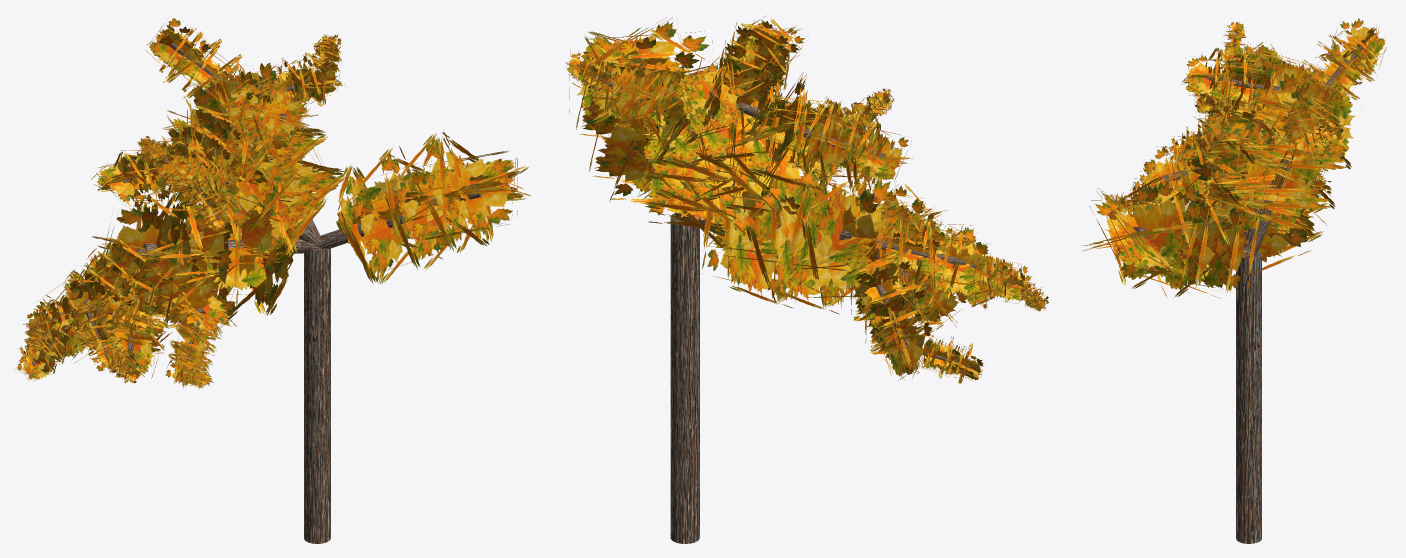
3 views of the same model, side by side, from view 1: azimuth 30°, elevation 25°; view 2: azimuth 150°, elevation 25°; view 3: azimuth 270°, elevation 25° (orthographic). The views are drawn at different scales.
Parts seen in each view (by area): view 1: leaf (1), leaf (3), leaf (5), leaf (4), leaf (10), treeStart leaves, leaf (13), leaf, leaf (2), leaf (6), leaf (11), leaf (14) (+6 smaller); view 2: leaf (5), leaf (3), leaf (1), leaf (6), treeStart leaves, leaf (4), leaf (2), leaf, leaf (14), leaf (13), leaf (9), leaf (10) (+5 smaller); view 3: treeStart leaves, leaf (1), leaf (3), leaf (5), leaf (6), leaf, leaf (2), leaf (14), leaf (4), leaf (13), leaf (9), leaf (10) (+6 smaller).
Part boxes in pixels (x1,y1,x2,y2): leaf (1): (25, 53, 415, 383); leaf (3): (24, 38, 468, 385); leaf (5): (22, 28, 493, 388); leaf (4): (25, 31, 473, 386); leaf (10): (17, 18, 516, 385); treeStart leaves: (304, 248, 330, 543); leaf (13): (17, 18, 517, 386); leaf: (28, 61, 384, 382); leaf (2): (26, 44, 442, 385); leaf (6): (19, 24, 529, 387); leaf (11): (28, 48, 447, 382); leaf (14): (19, 22, 530, 385); leaf (5): (571, 15, 1045, 383); leaf (3): (576, 22, 1042, 374); leaf (1): (589, 39, 1035, 370); leaf (6): (569, 27, 1048, 380); treeStart leaves: (670, 213, 699, 543); leaf (4): (577, 23, 1043, 377); leaf (2): (582, 37, 1038, 378); leaf: (596, 55, 1032, 368); leaf (14): (566, 18, 1048, 381); leaf (13): (565, 19, 1045, 378); leaf (9): (568, 17, 1047, 379); leaf (10): (566, 20, 1045, 377); treeStart leaves: (1236, 252, 1261, 543); leaf (1): (1128, 42, 1359, 298); leaf (3): (1119, 34, 1374, 292); leaf (5): (1106, 27, 1378, 288); leaf (6): (1096, 21, 1386, 283); leaf: (1133, 44, 1342, 292); leaf (2): (1122, 36, 1362, 297); leaf (14): (1089, 18, 1385, 272); leaf (4): (1115, 29, 1375, 286); leaf (13): (1082, 22, 1379, 250); leaf (9): (1101, 20, 1383, 275); leaf (10): (1081, 22, 1376, 246).
Bounding box in the file's own units: 10.15 × 10.24 × 6.01.
